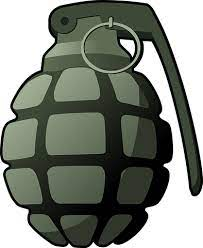bomb: (3, 2, 203, 247)
